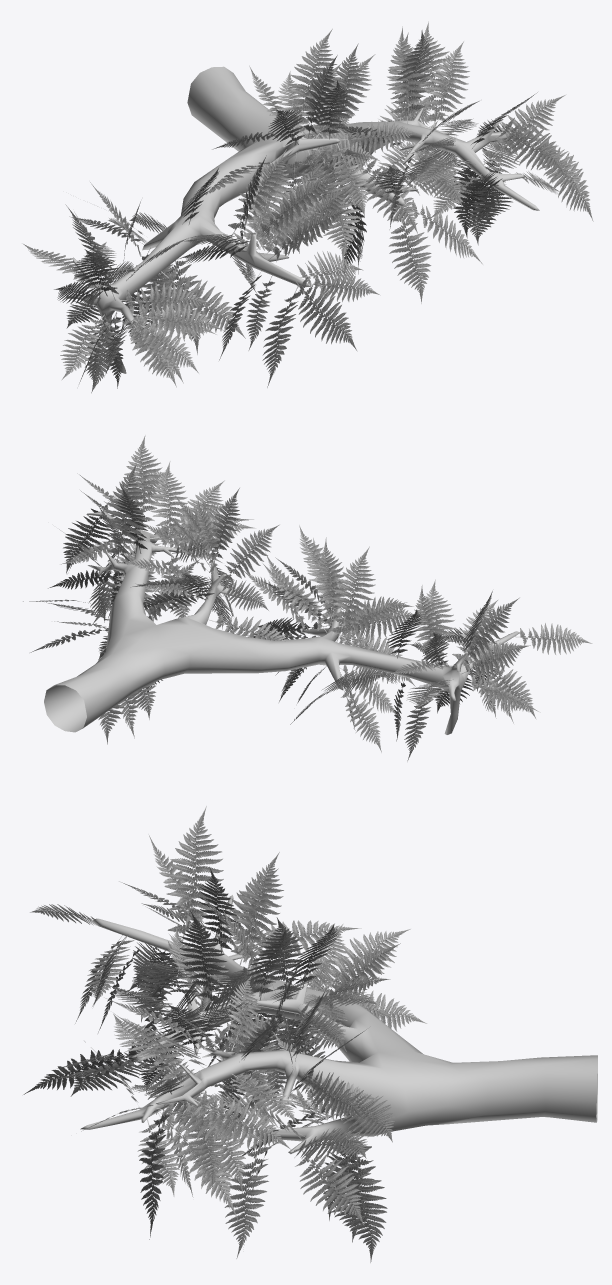
The model's file is Tree05_Foliage.fbx.
The picture shows the model from 3 angles, top to bottom: view 1: azimuth 30°, elevation 25°; view 2: azimuth 150°, elevation 25°; view 3: azimuth 270°, elevation 25°; orthographic projection. The views are drawn at different scales.
Parts seen in each view (by area): view 1: Tree1.003; view 2: Tree1.003; view 3: Tree1.003.
Boxes of the visible parts, x1,y1,x2,y2 form: Tree1.003: (22, 21, 593, 393); Tree1.003: (23, 435, 592, 761); Tree1.003: (23, 806, 597, 1262).
Bounding box in the file's own units: 401 × 203 × 313.
